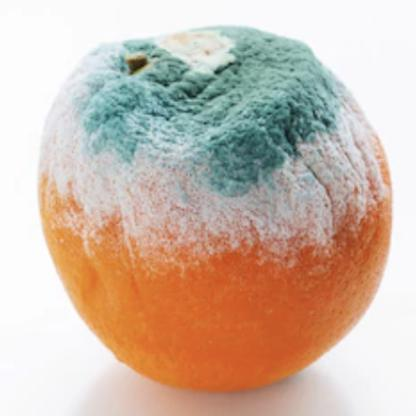rotten: (41, 23, 396, 393)
